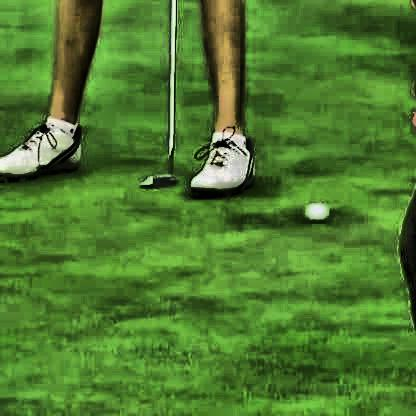golfball: (302, 201, 326, 220)
